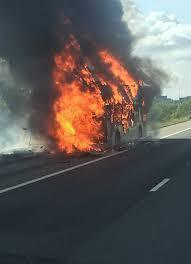fire: (34, 30, 155, 158)
